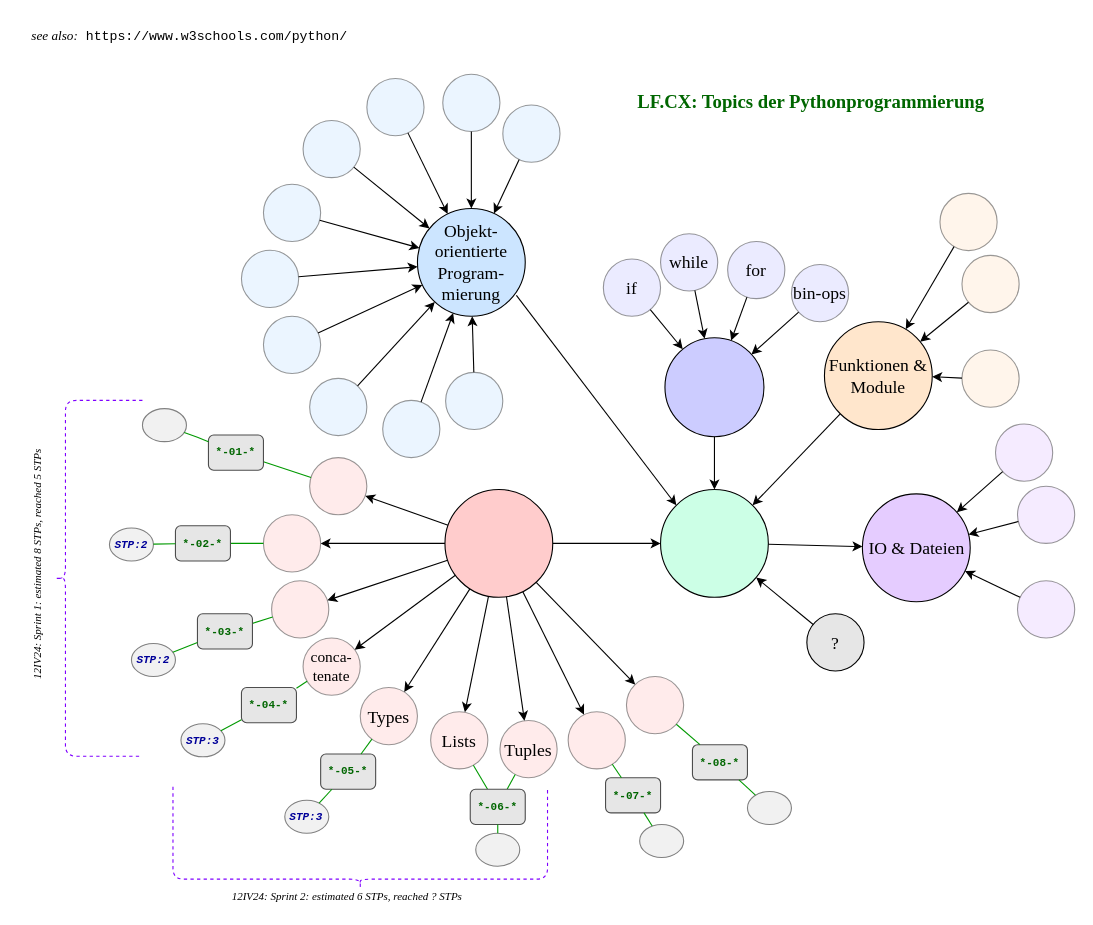
Some shapes in this 1093 by 925 pixel diagram are drawn without their labels. Here are the shapes that lost their labels. From the top down, the box of each, then its label:
(664, 337, 764, 437): Kontroll-strukturen
(141, 408, 186, 442): STP:1
(309, 457, 367, 515): print
(262, 514, 321, 572): Varia-bles
(444, 488, 553, 597): Variablen & Daten
(659, 488, 768, 597): Python-programmie-rung
(270, 580, 329, 638): Strings
(625, 675, 684, 734): Sets
(567, 711, 625, 769): Dictio-naries
(746, 790, 791, 824): STP:?
(475, 832, 520, 866): STP:8
(639, 823, 684, 857): STP:5
